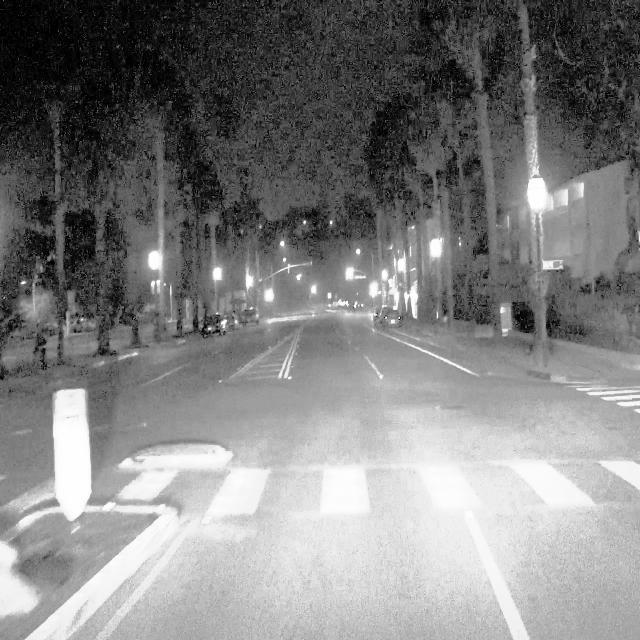Sign: (53, 389, 91, 520)
